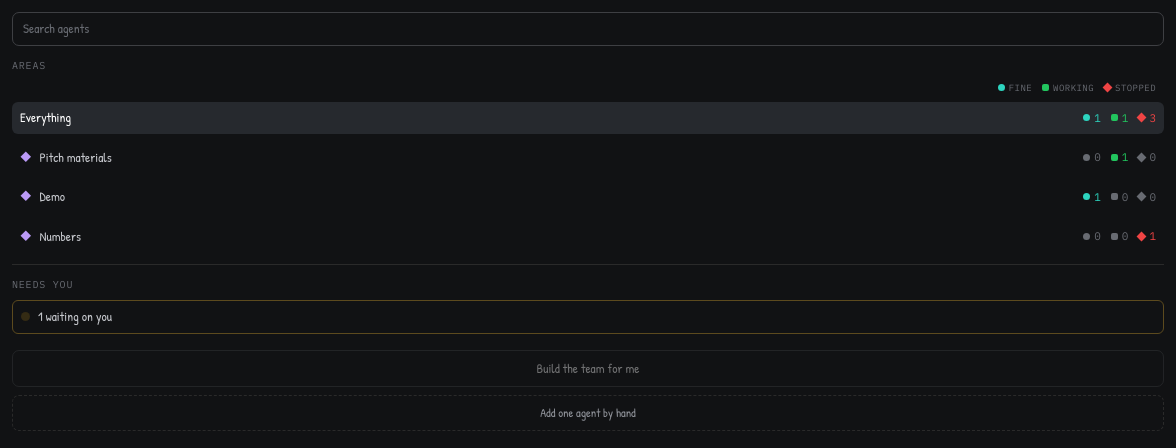
search matches an area by its name or by who works in it › a search that matches nothing says so instead of showing an empty list
Type "zzz" into the field with test id "agents-search" at x=588, y=29, box [12,12,1164,46]
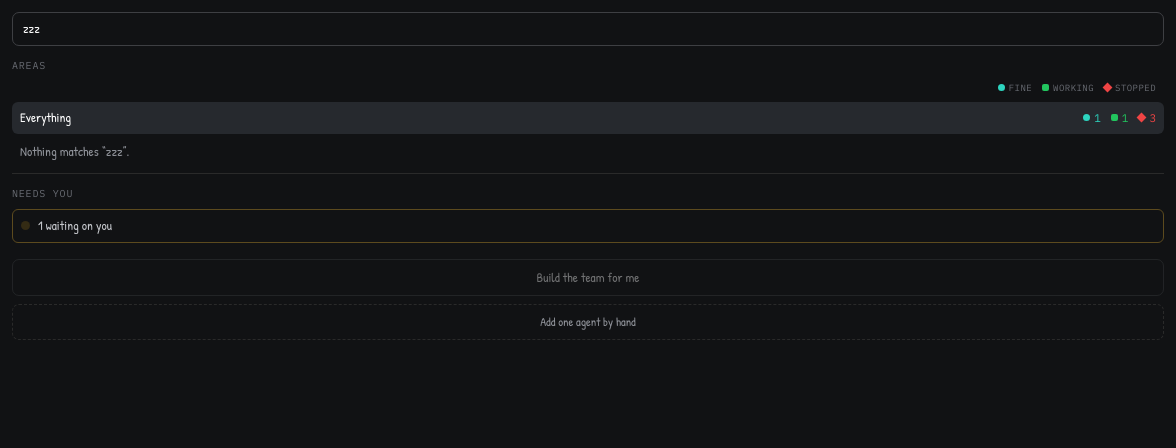
Check: the text with test id "rail-no-matches" shows "zzz", box [106,142,122,160]
